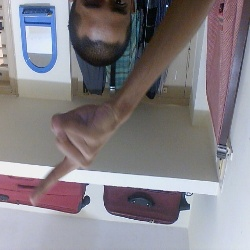hand: (25, 106, 127, 204)
